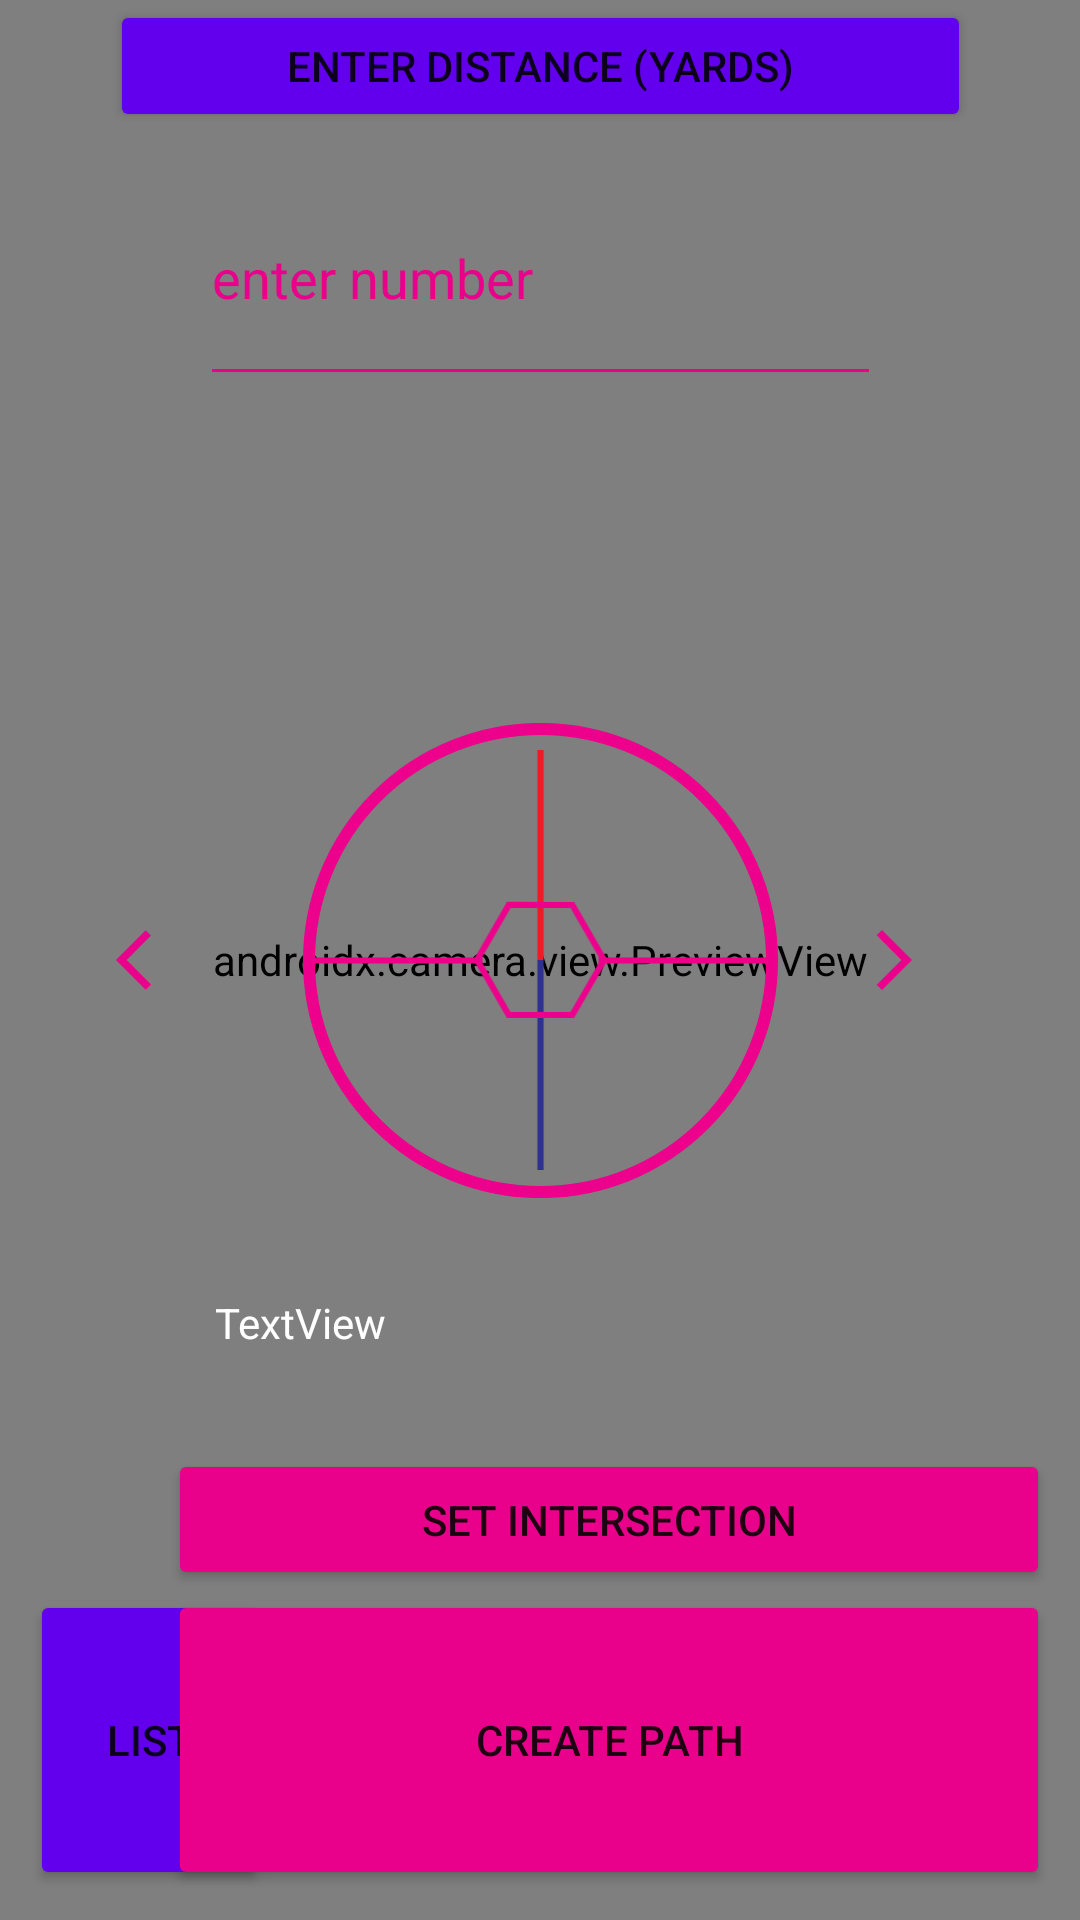

Where to tap for icons on this 1080×1920 app screen, as [x,y]:
arrow back: [133,960]
arrow forward: [894,960]
